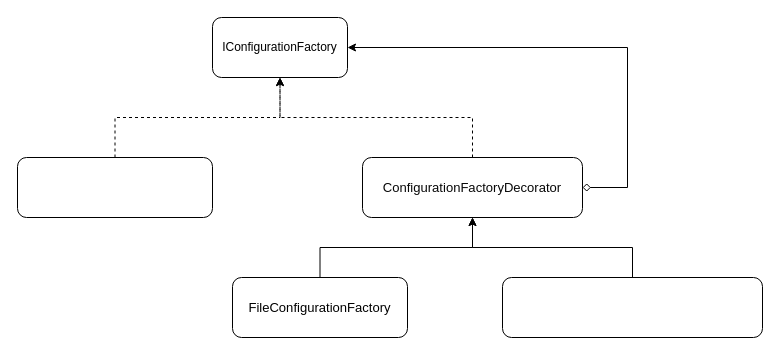
The diagram is 780 pixels wide and 355 high, and some of its shapes have lost their labels. The shapes that lost their labels are listed below. From the top down, each one's centre as x and y in pixels, then its label:
[114,187]: JsonConfigurationFactory
[632,307]: TestWeatherServiceConfigurationFactory
